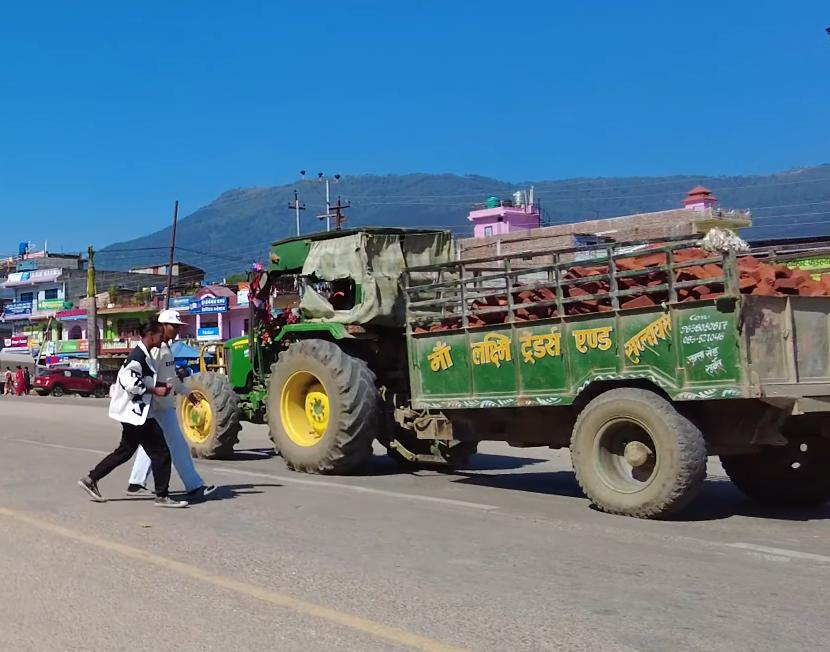car: (30, 364, 110, 399)
tractor: (163, 215, 451, 489)
